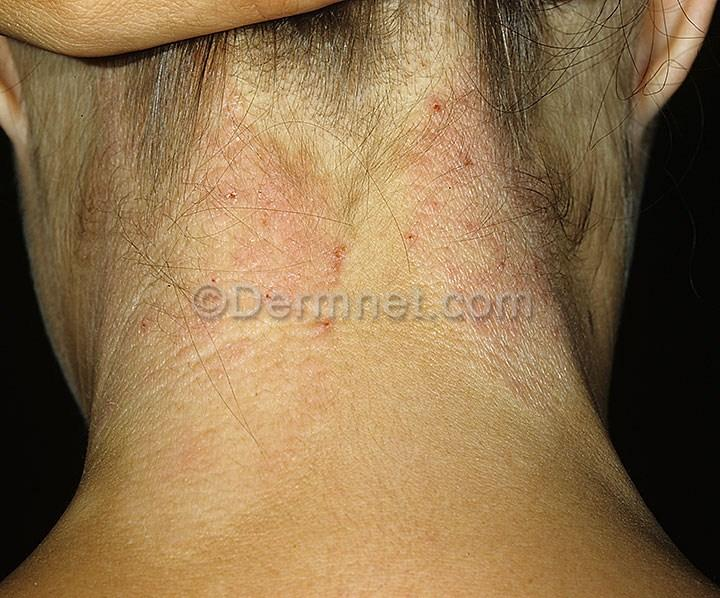Eczema: (362, 67, 520, 282), (189, 147, 293, 232), (307, 233, 368, 276), (192, 265, 245, 301), (302, 307, 352, 337), (118, 313, 165, 341), (255, 284, 283, 306)
